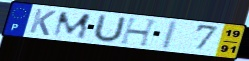7: (193, 23, 221, 54)
H: (118, 17, 161, 48)
I: (158, 20, 180, 51)
K: (27, 7, 58, 37)
M: (51, 11, 93, 40)
U: (90, 13, 128, 44)
